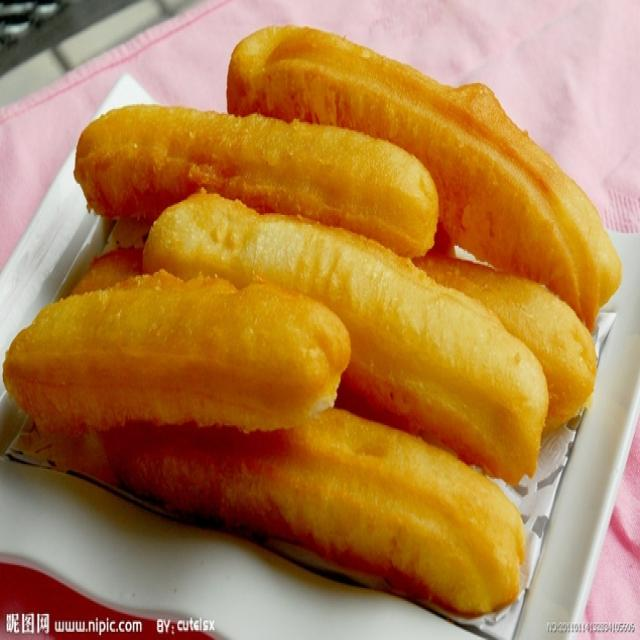炸货点心: (51, 13, 636, 594)
